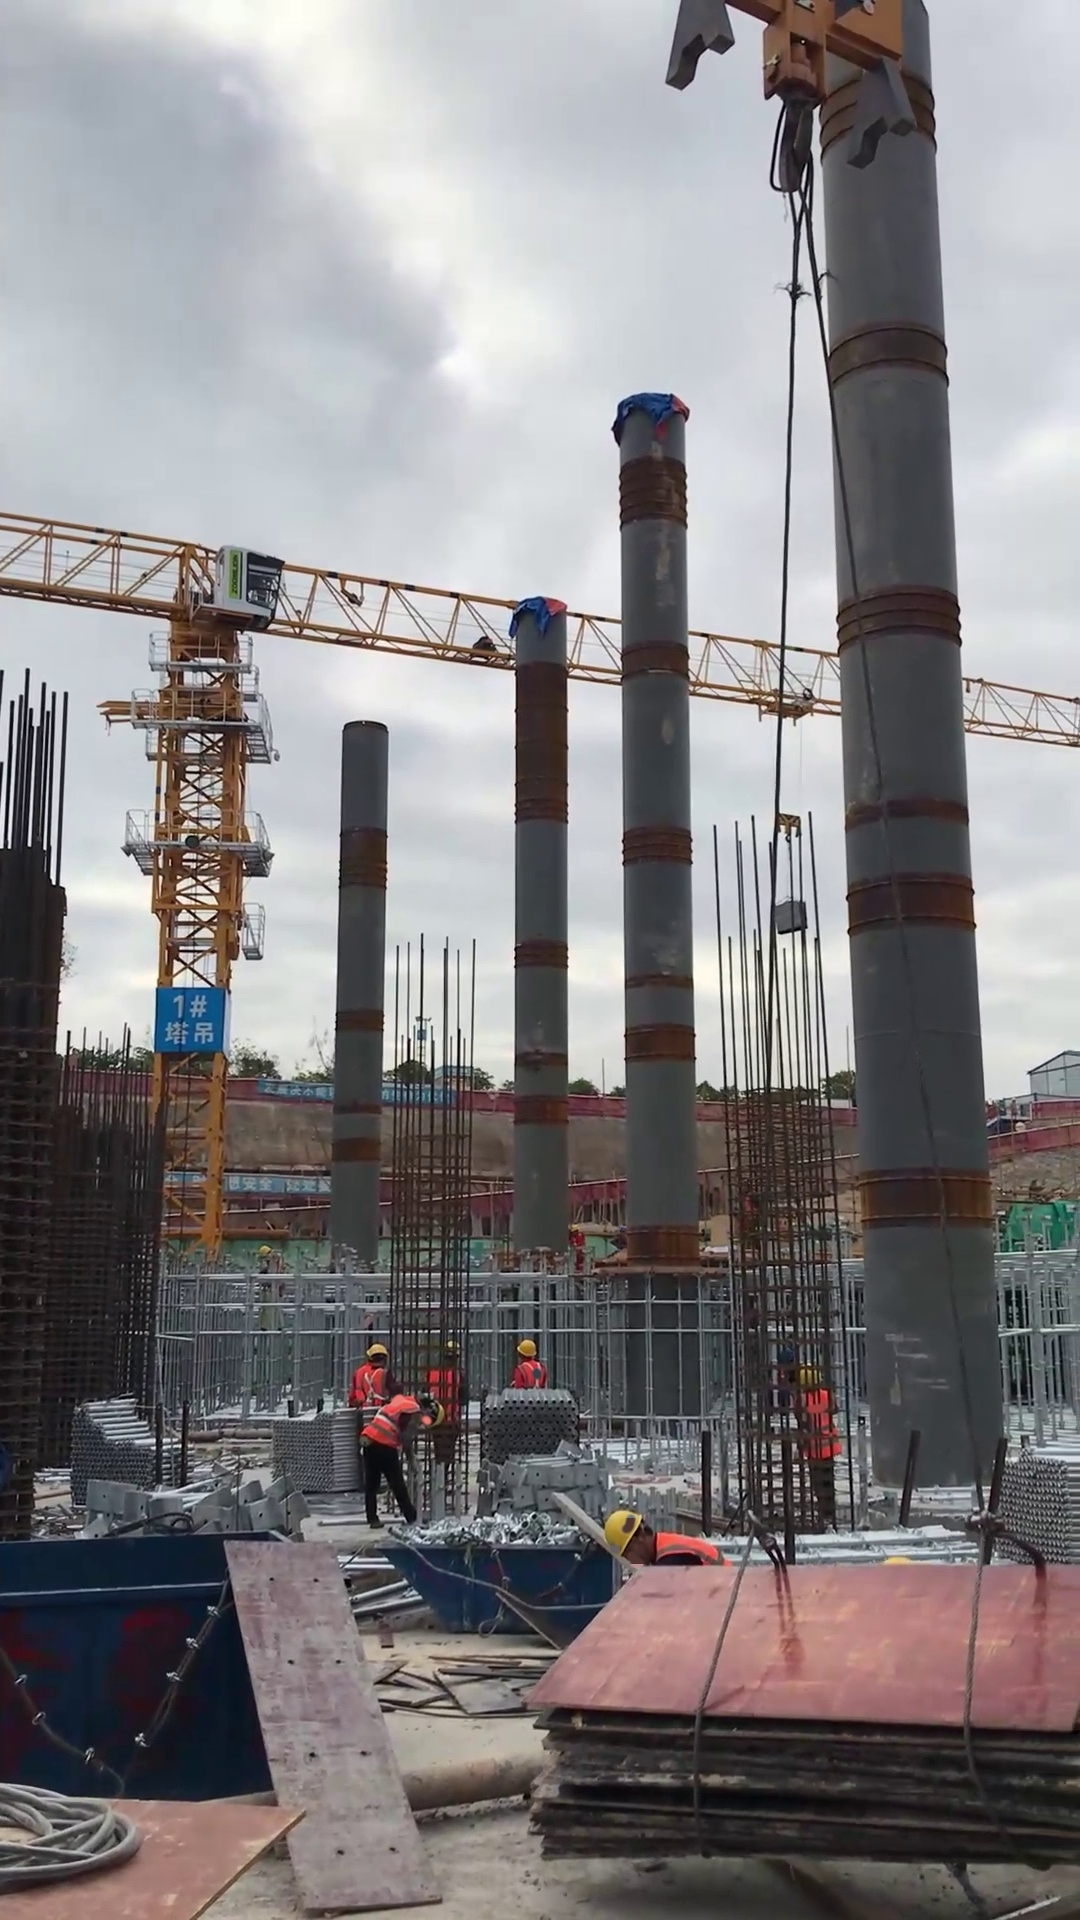helmet: (602, 1508, 645, 1560), (793, 1363, 824, 1390), (364, 1344, 389, 1367), (427, 1396, 444, 1429), (442, 1339, 463, 1361), (514, 1339, 537, 1359), (256, 1244, 271, 1256), (568, 1222, 581, 1234)
person: (355, 1392, 446, 1531), (787, 1362, 845, 1533), (602, 1508, 737, 1566), (424, 1338, 472, 1470), (353, 1344, 404, 1405), (510, 1338, 550, 1390), (567, 1223, 589, 1273)
vest: (361, 1391, 423, 1449), (652, 1525, 734, 1566), (796, 1390, 846, 1459), (427, 1364, 464, 1427), (356, 1364, 394, 1404), (515, 1360, 549, 1391), (571, 1235, 587, 1252)
